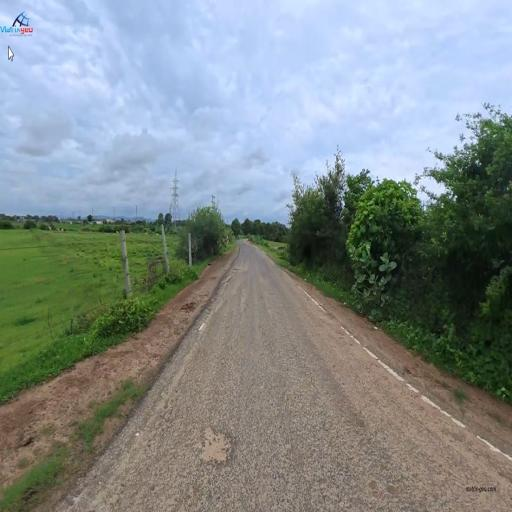pothole: (198, 401, 249, 488)
